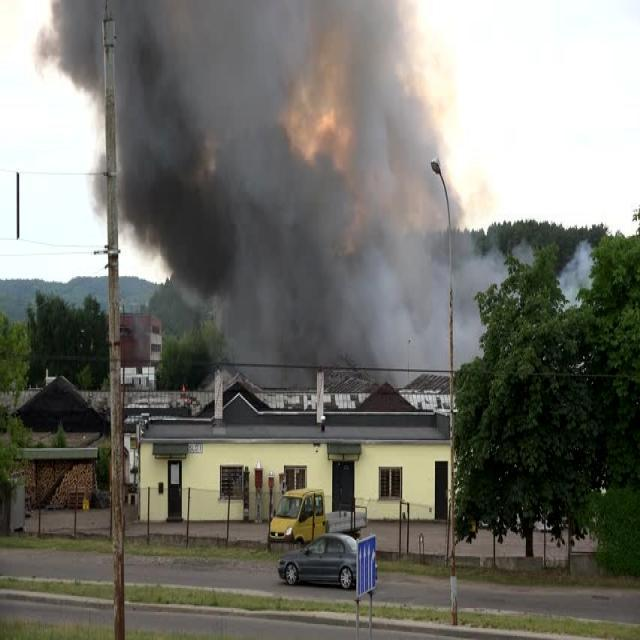Smoke: (47, 0, 470, 399)
